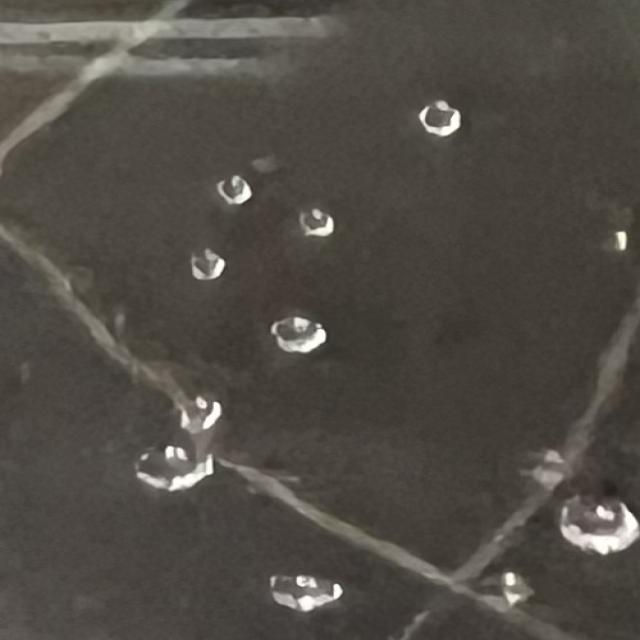raindrop: (239, 558, 358, 640), (547, 478, 640, 565), (402, 88, 492, 160), (121, 439, 232, 495), (257, 305, 330, 373), (212, 155, 278, 224), (175, 226, 243, 291), (271, 186, 346, 242), (523, 430, 593, 481), (163, 381, 223, 434), (471, 567, 522, 613)
